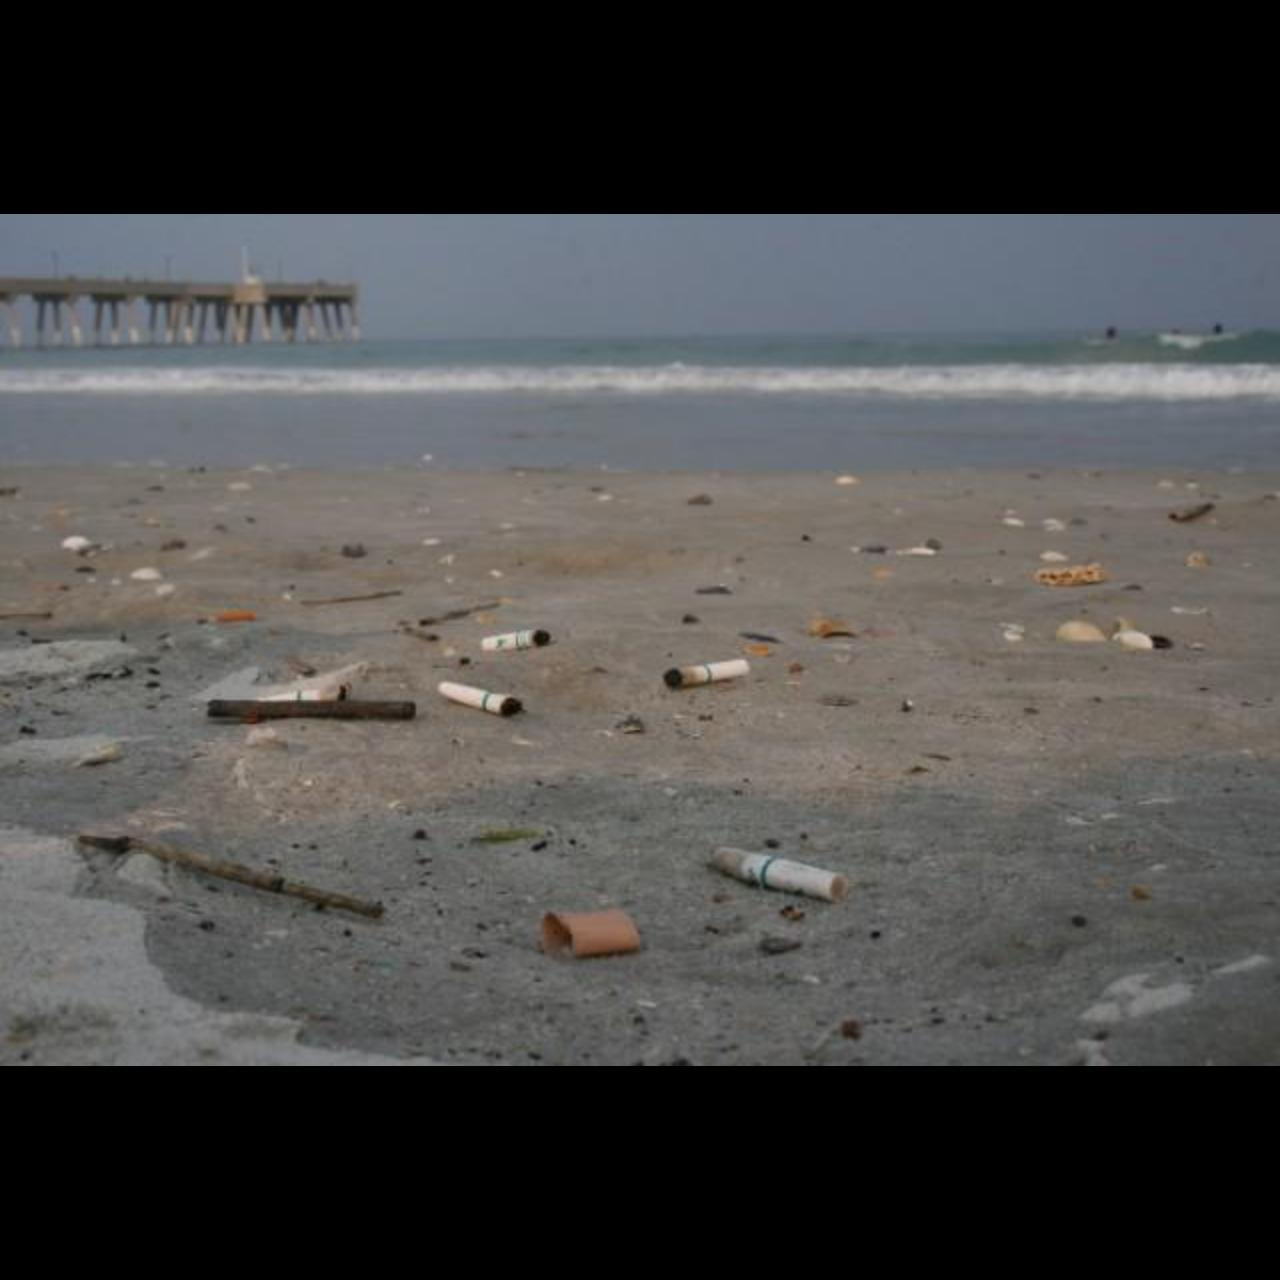cigarettes_butts: (708, 845, 847, 903), (438, 682, 524, 717), (662, 658, 750, 689), (253, 682, 354, 700), (481, 629, 550, 653), (195, 610, 256, 624)
